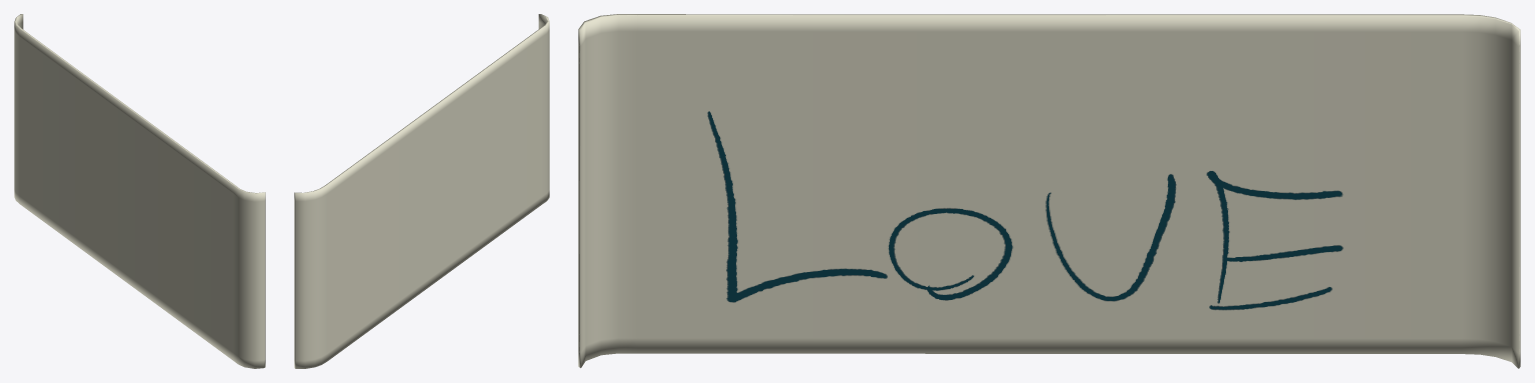
The model's file is papelzinhoLove.fbx.
3 renders of one model, left to right at view 1: azimuth 30°, elevation 25°; view 2: azimuth 150°, elevation 25°; view 3: azimuth 270°, elevation 25°, orthographic. The views are drawn at different scales.
Visible parts, largest first — view 1: Papelzinho; view 2: Papelzinho; view 3: Papelzinho.
Part boxes in pixels (bbox=[...]): Papelzinho: bbox=[14, 14, 265, 368]; Papelzinho: bbox=[294, 14, 549, 368]; Papelzinho: bbox=[578, 14, 1520, 368].
Size of the model in its own units: 6.73 by 60.75 by 154.
